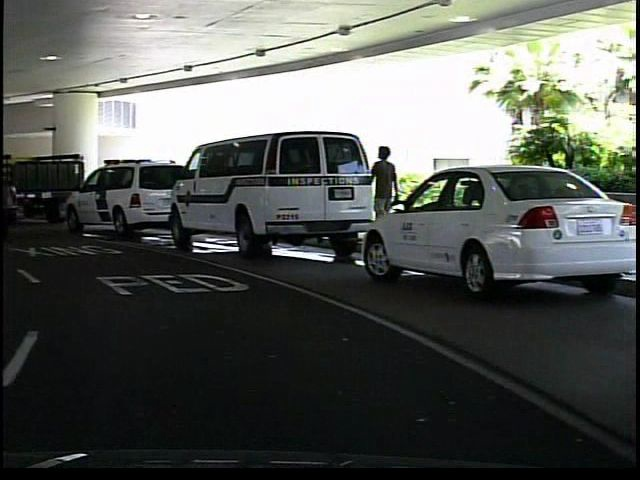person: (363, 138, 401, 246)
